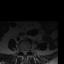CCS_normal: (24, 49, 25, 56)
LFS_stenosis: (27, 47, 29, 53)
LLS_normal: (25, 48, 27, 55)
RFS_stenosis: (20, 47, 22, 53)
RLS_normal: (22, 48, 24, 55)
